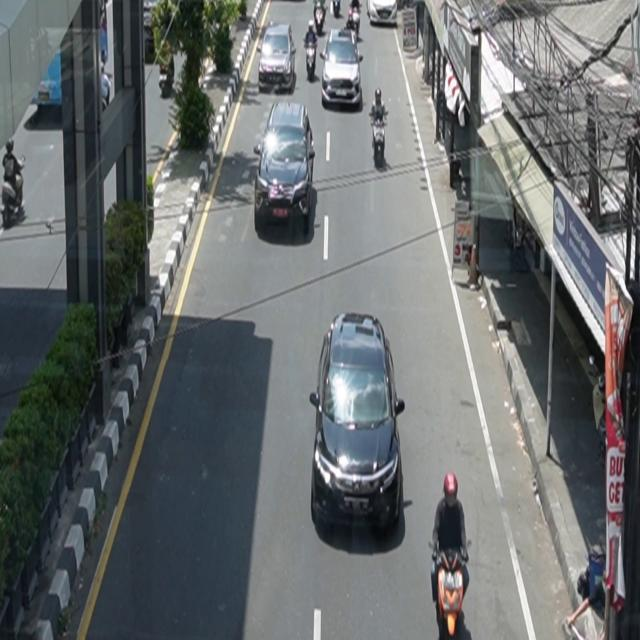car: (310, 312, 406, 536), (254, 101, 316, 228), (321, 28, 363, 109), (259, 24, 297, 94), (367, 1, 398, 26)
